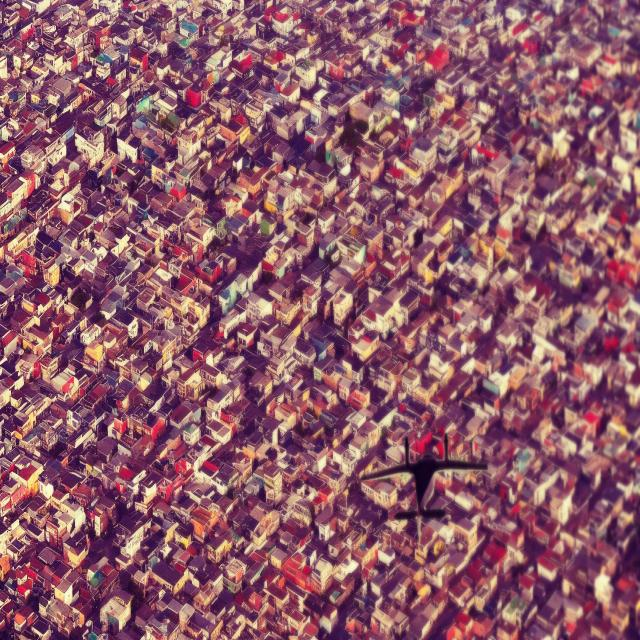airplane: (359, 437, 488, 520)
